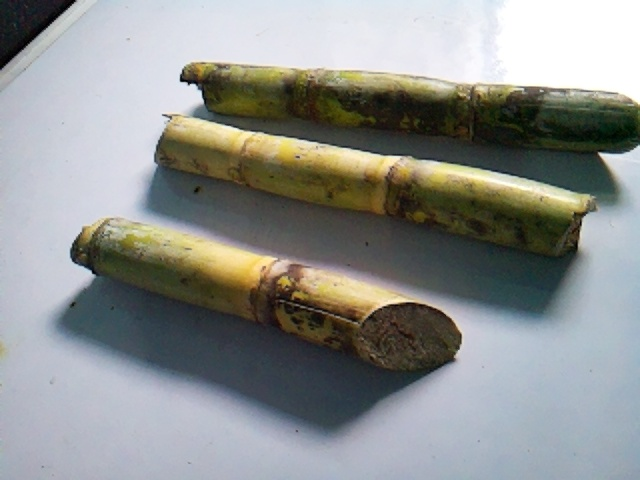Good Sugarcane: (152, 115, 598, 258), (68, 215, 464, 373), (176, 59, 640, 153)
Node: (242, 248, 299, 339), (435, 73, 494, 148), (365, 143, 414, 225), (225, 121, 268, 197), (280, 62, 331, 125)
